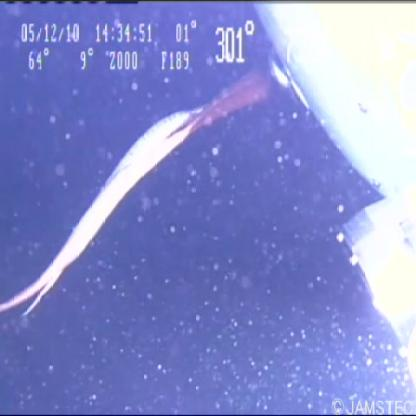Bio: (1, 64, 277, 320)
